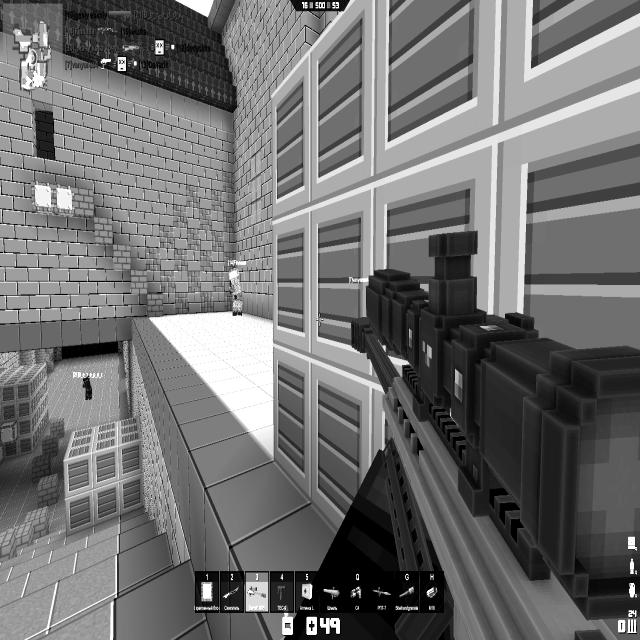Head: (230, 268, 240, 285), (83, 376, 90, 386)
Player: (228, 259, 243, 316), (82, 372, 92, 400)
